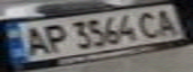3: (69, 18, 90, 51)
4: (115, 11, 142, 43), (103, 14, 124, 45)
6: (103, 14, 124, 45)
A: (18, 24, 51, 56), (151, 6, 184, 36)
C: (133, 8, 166, 39)
P: (36, 21, 69, 54)
